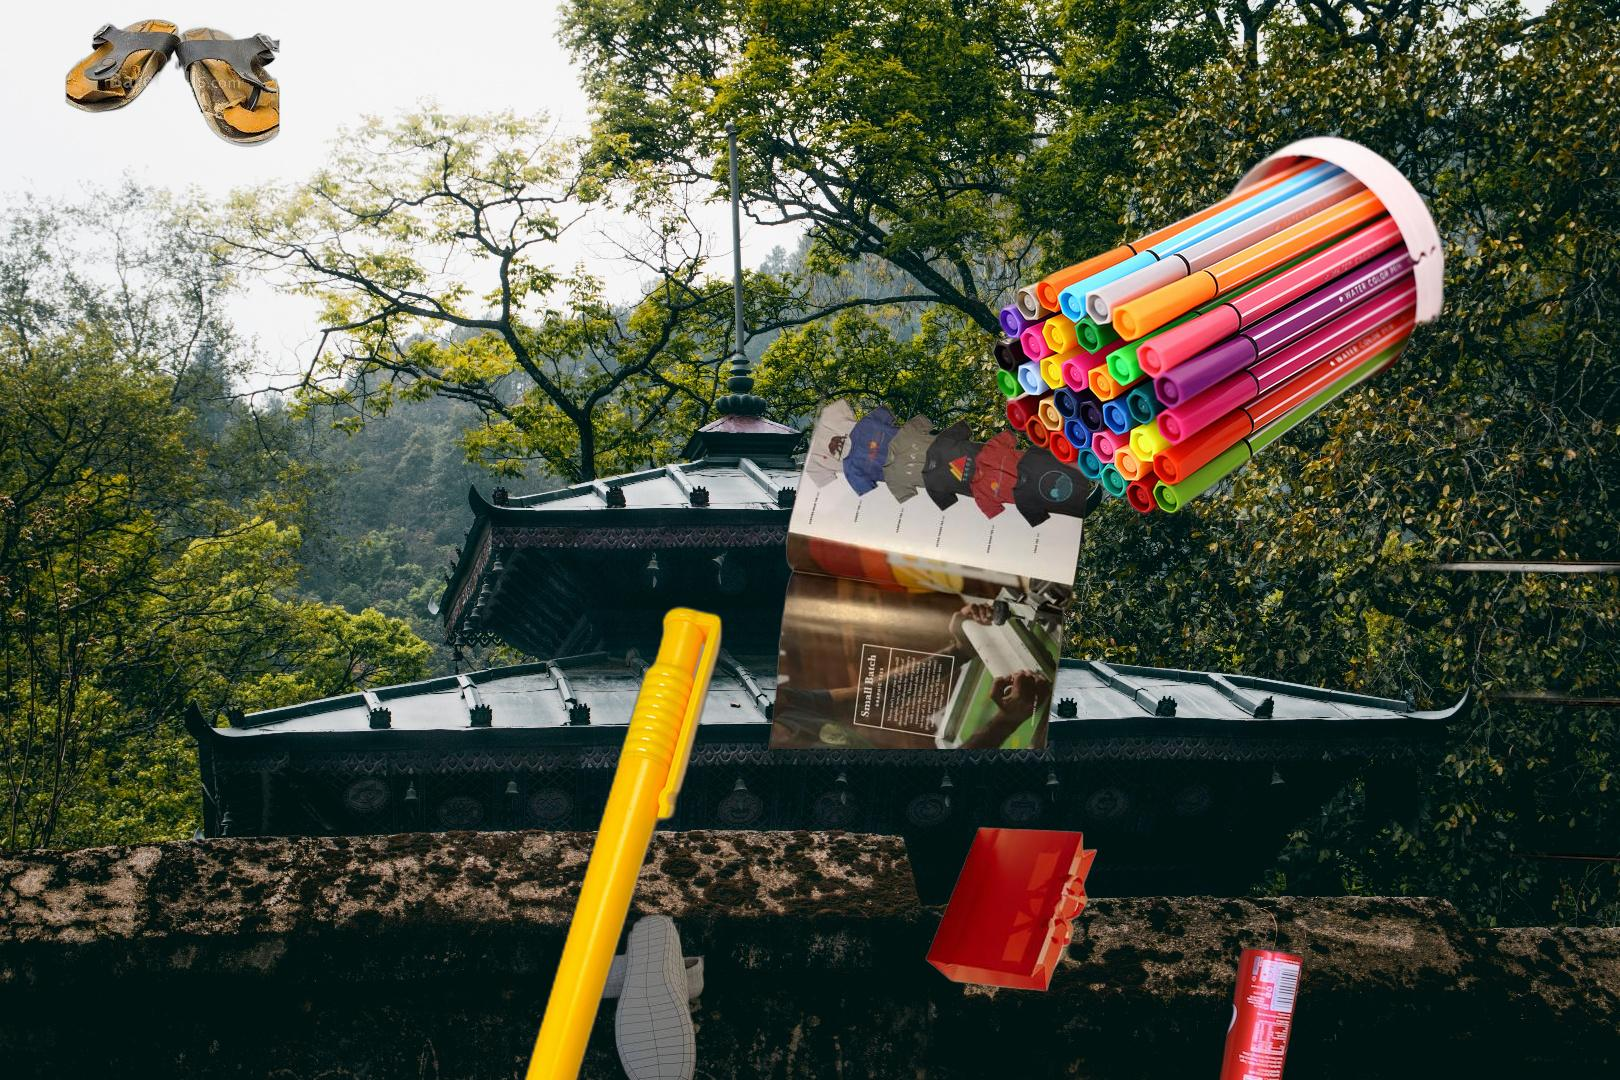metal-cans: (1368, 325, 1620, 1008), (1213, 942, 1310, 1080)
paper: (764, 365, 1099, 749)
paper-bag: (923, 825, 1112, 996)
penholder: (318, 599, 729, 1080), (988, 130, 1450, 521)
shoes: (63, 16, 282, 149), (558, 911, 708, 1080)
